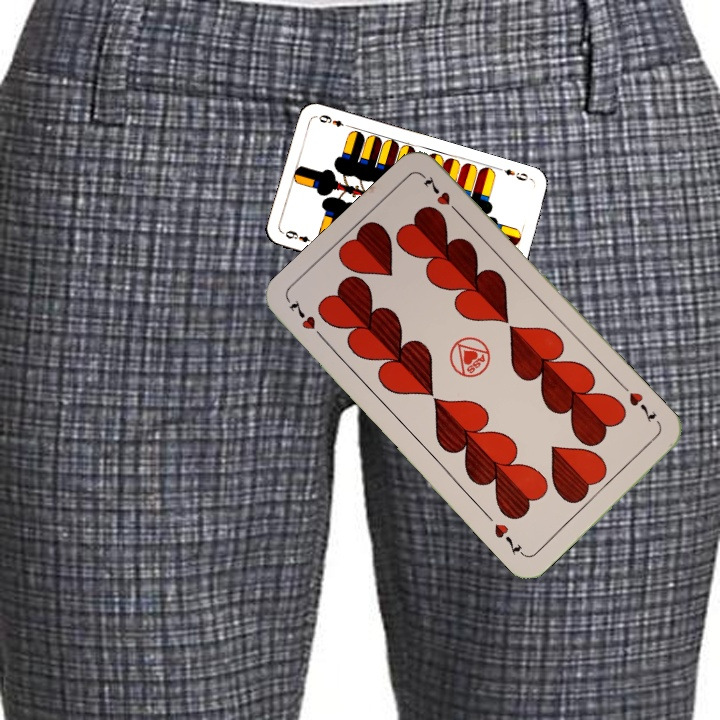E9: (280, 226, 319, 247), (495, 164, 535, 184)
H7: (285, 296, 329, 345), (624, 388, 660, 425)
